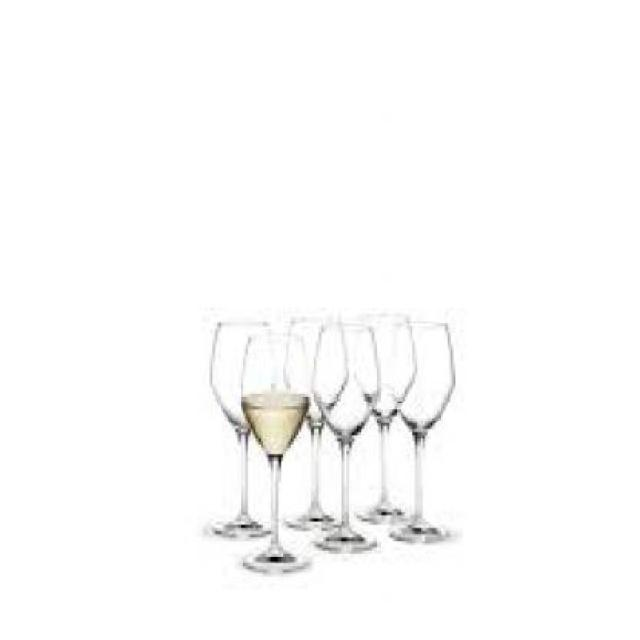kaca: (239, 332, 306, 566), (388, 320, 454, 542), (208, 317, 274, 531), (314, 317, 372, 551), (354, 311, 412, 518), (281, 314, 337, 524)
